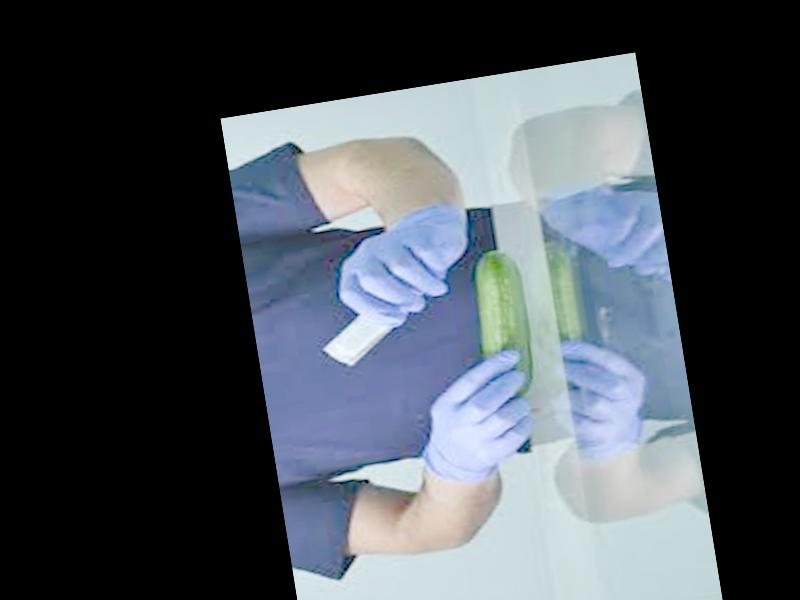Cucumber: (467, 246, 540, 400)
